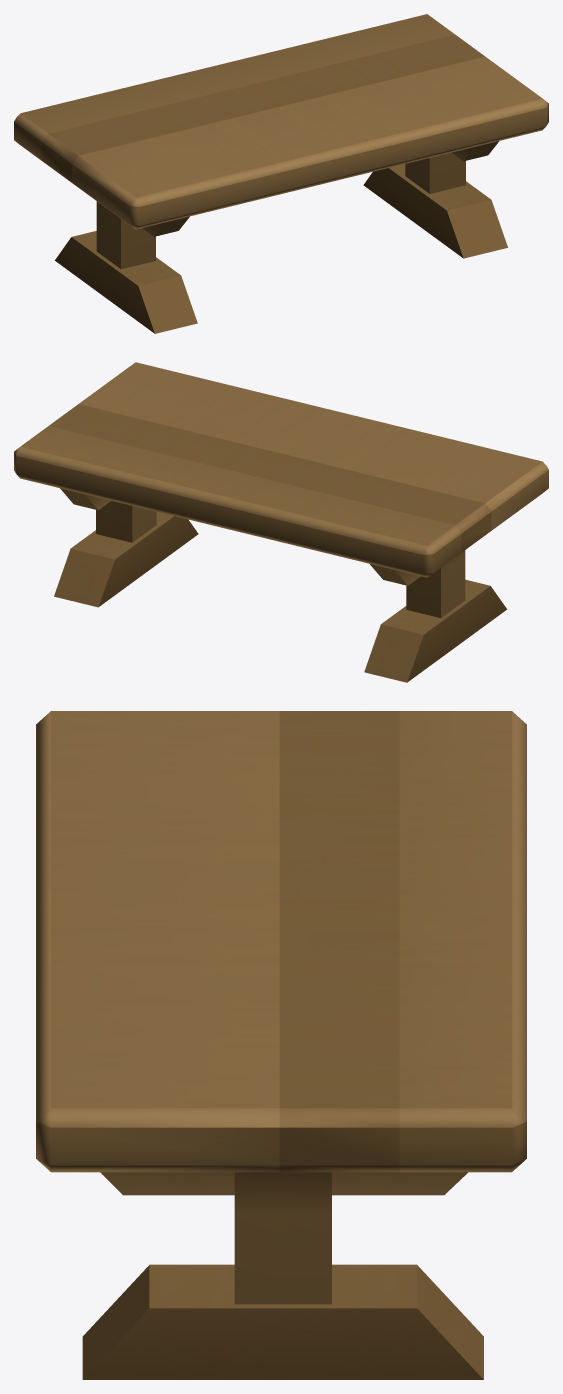
The model's file is table_roof_small.fbx.
3 renders of one model, top to bottom at view 1: azimuth 30°, elevation 25°; view 2: azimuth 150°, elevation 25°; view 3: azimuth 270°, elevation 25°, orthographic. The views are drawn at different scales.
Visible parts, largest first — view 1: table_roof_small; view 2: table_roof_small; view 3: table_roof_small.
Part boxes in pixels (<box>): table_roof_small: <box>14,14,548,333</box>; table_roof_small: <box>14,362,548,682</box>; table_roof_small: <box>36,711,526,1379</box>.
Size of the model in its own units: 202 by 68.43 by 102.
